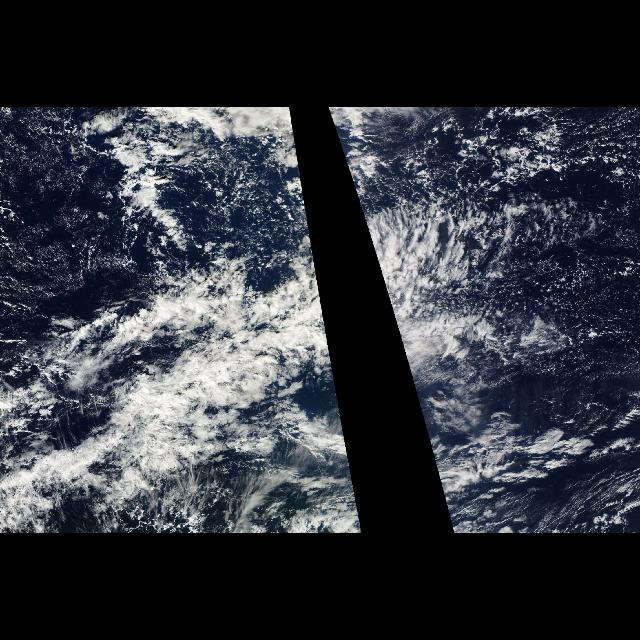Gravel: (435, 112, 635, 376), (127, 128, 321, 292), (333, 128, 405, 292)
Sugar: (2, 162, 110, 304)
